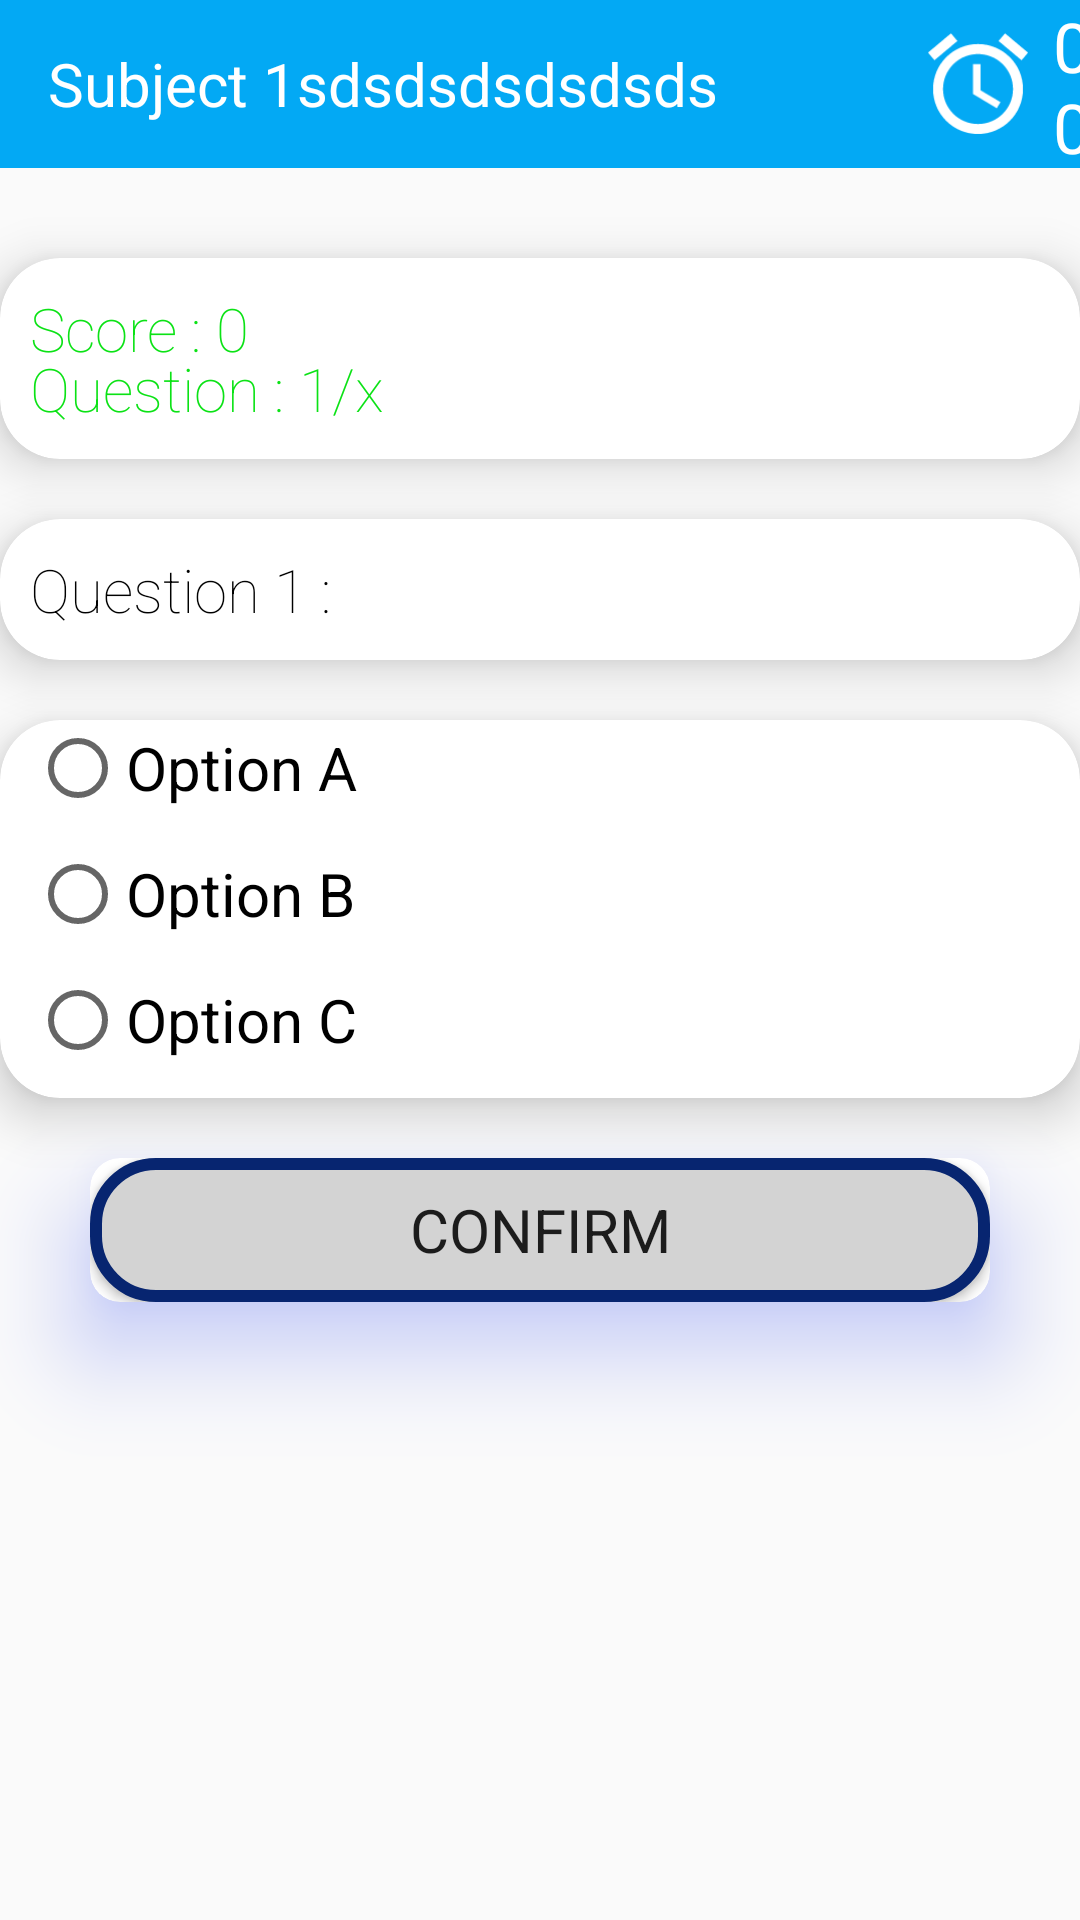

Icons on this 1080 x 1920 Android screen, each with the point to tap as (x,y):
alarm: (978,83)
